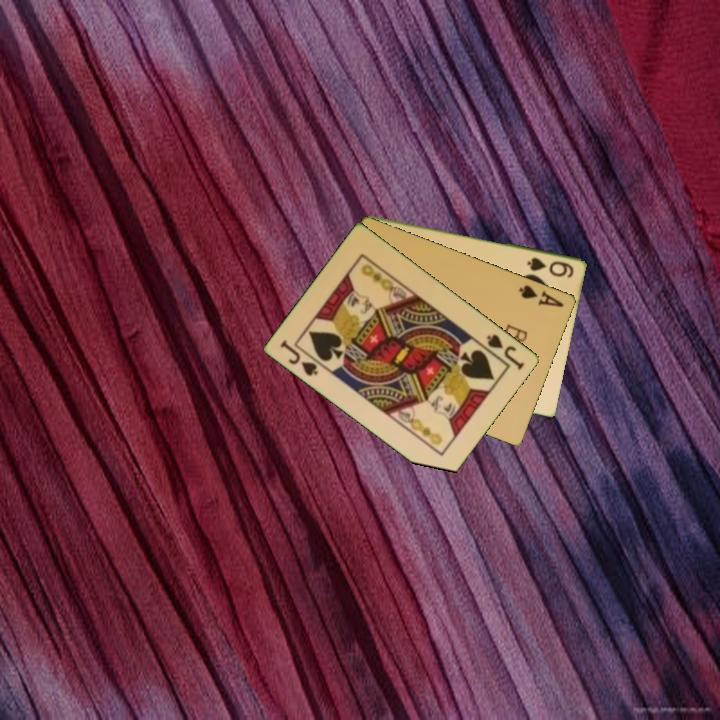6s: (524, 253, 577, 280)
As: (516, 281, 567, 310)
Js: (277, 336, 326, 379), (483, 330, 528, 373)
